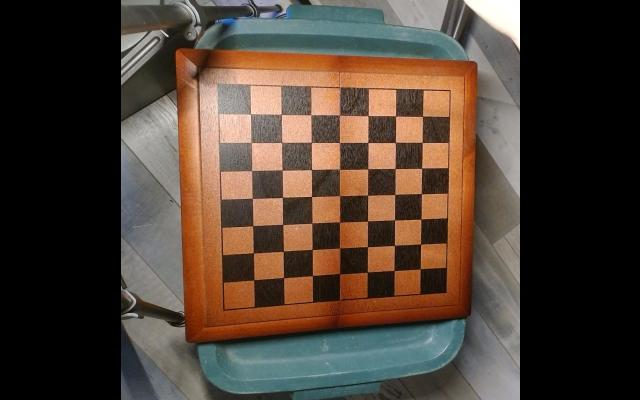corner: (212, 80, 226, 94), (442, 86, 454, 98), (219, 303, 231, 315), (440, 286, 450, 296)
